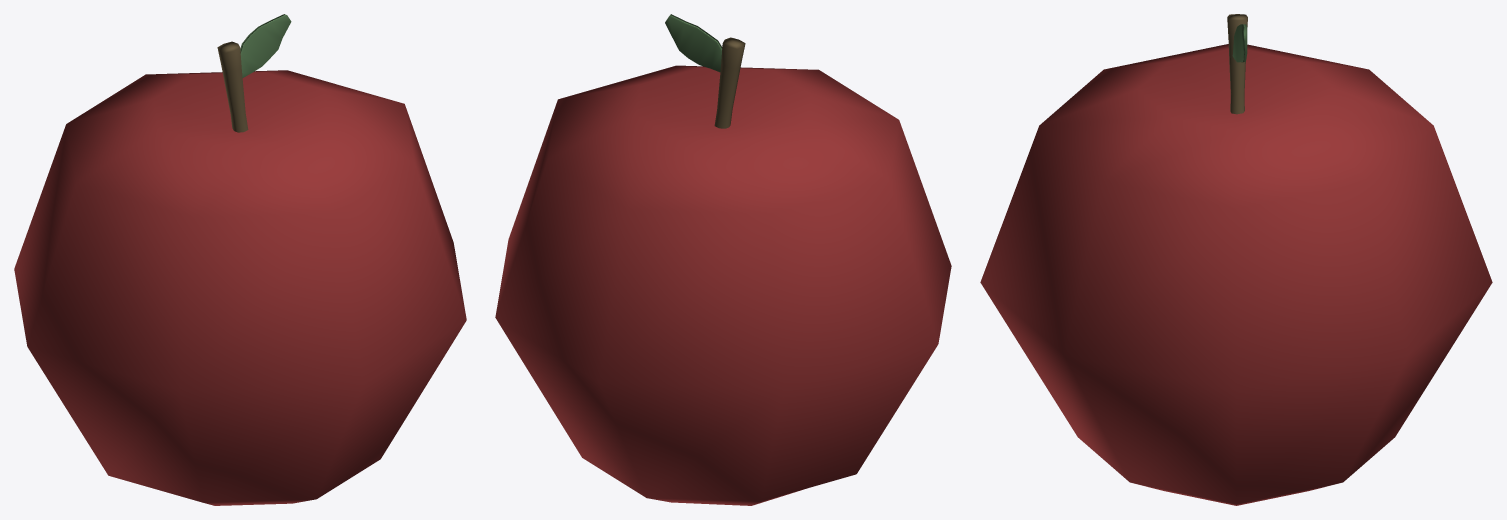
The model's file is AppleMat.fbx.
The picture shows the model from 3 angles, left to right: view 1: azimuth 30°, elevation 25°; view 2: azimuth 150°, elevation 25°; view 3: azimuth 270°, elevation 25°; orthographic projection. The views are drawn at different scales.
Visible parts, largest first — view 1: pCube1, pCube3, pCube2; view 2: pCube1, pCube3, pCube2; view 3: pCube1, pCube2.
Part boxes in pixels (<box>): pCube1: <box>14,70,466,505</box>; pCube3: <box>240,14,291,77</box>; pCube2: <box>217,41,248,132</box>; pCube1: <box>495,65,951,505</box>; pCube3: <box>665,14,722,72</box>; pCube2: <box>714,37,745,128</box>; pCube1: <box>980,44,1492,505</box>; pCube2: <box>1227,14,1247,114</box>.
Size of the model in its own units: 3.41 by 3.34 by 3.41.
